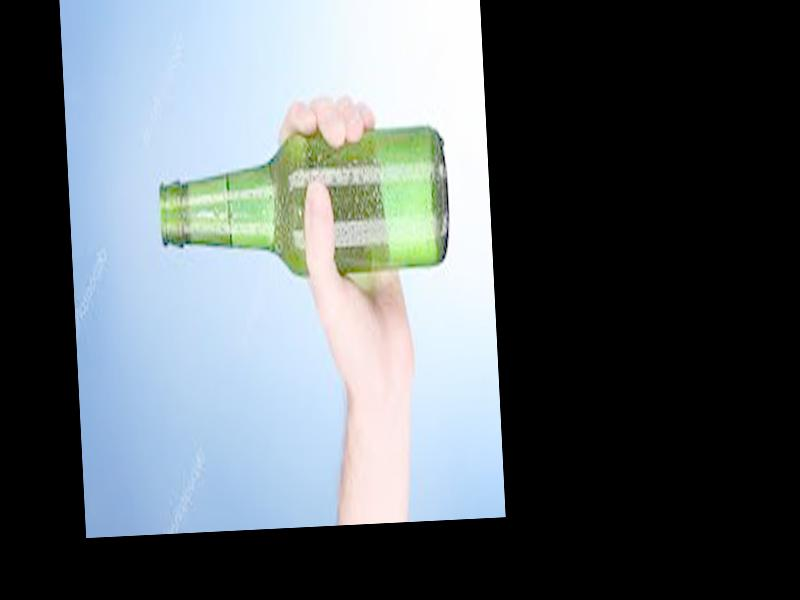Beer: (155, 128, 452, 280)
